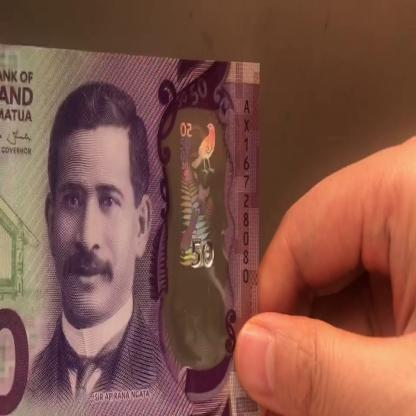50F: (173, 118, 221, 340)
